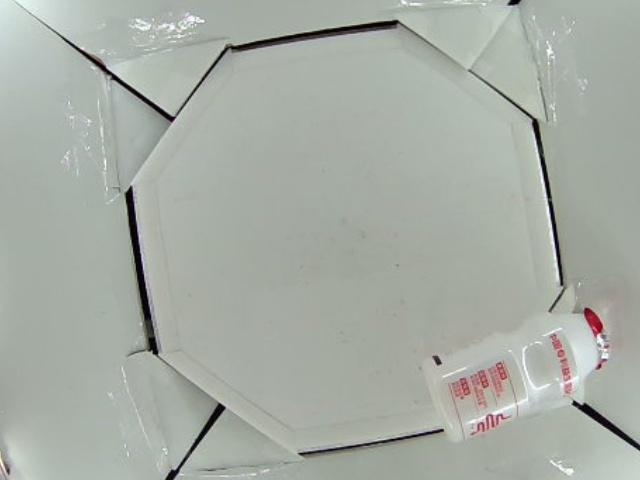Bottle: (423, 307, 611, 448)
